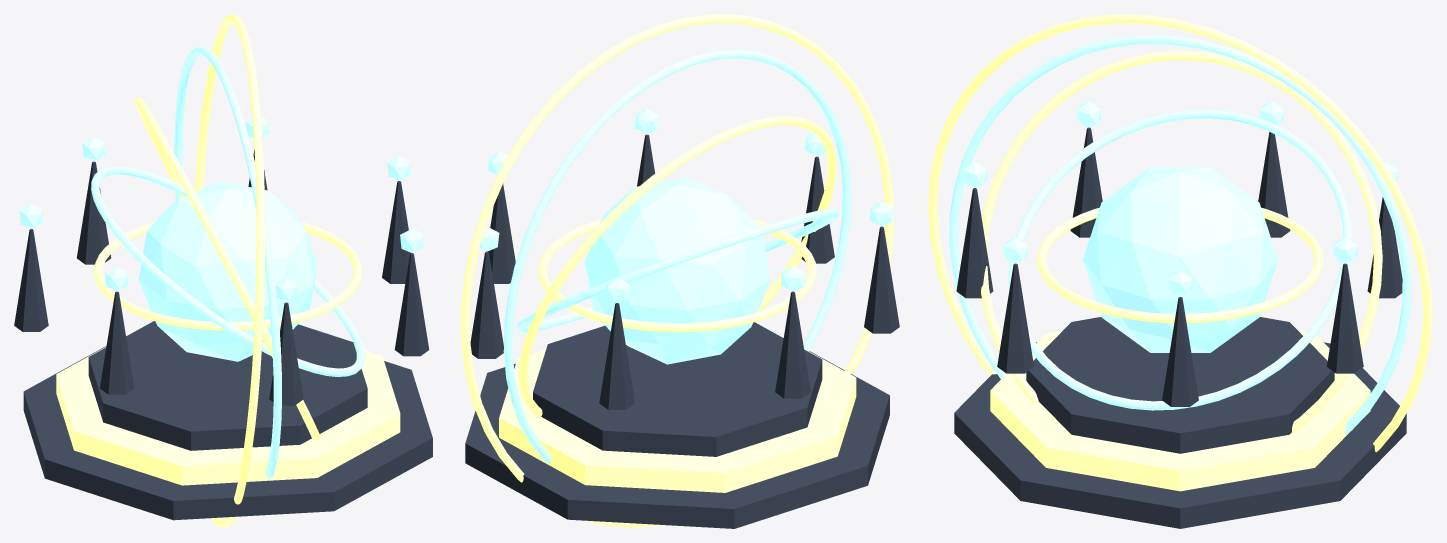
The model's file is gpu-blender-v56.glb.
The picture shows the model from 3 angles, left to right: view 1: azimuth 30°, elevation 25°; view 2: azimuth 150°, elevation 25°; view 3: azimuth 270°, elevation 25°; orthographic projection. The views are drawn at different scales.
Visible parts, largest first — view 1: Cylinder.002, Cylinder, SovereignCore_agent-egress-sentinel, Cylinder.001, Torus.004, Torus.003, Torus.001, Torus, Torus.002, Cone.006, Cone.004, Cone.003 (+3 smaller); view 2: Cylinder.002, SovereignCore_agent-egress-sentinel, Cylinder, Cylinder.001, Torus.004, Torus.003, Torus.002, Torus.001, Torus, Cone.004, Cone.003, Cone.002 (+4 smaller); view 3: SovereignCore_agent-egress-sentinel, Cylinder.002, Cylinder, Cylinder.001, Torus.004, Torus.003, Torus.002, Torus.001, Torus, Cone.001, Cone.006, Cone (+4 smaller).
Part boxes in pixels (x1,y1,x2,y2): Cylinder.002: (88, 321, 367, 450); Cylinder: (23, 346, 432, 520); SovereignCore_agent-egress-sentinel: (139, 181, 317, 361); Cylinder.001: (56, 328, 400, 485); Torus.004: (195, 14, 265, 528); Torus.003: (174, 46, 281, 480); Torus.001: (91, 166, 365, 376); Torus: (94, 222, 362, 330); Torus.002: (135, 97, 320, 440); Cone.006: (394, 253, 429, 356); Cone.004: (100, 291, 134, 394); Cone.003: (14, 229, 48, 331); Cylinder.002: (533, 322, 822, 456); SovereignCore_agent-egress-sentinel: (585, 177, 770, 364); Cylinder: (465, 351, 889, 528); Cylinder.001: (499, 330, 856, 492); Torus.004: (461, 14, 894, 527); Torus.003: (503, 49, 851, 463); Torus.002: (518, 116, 836, 417); Torus.001: (516, 208, 838, 332); Torus: (538, 219, 816, 332); Cone.004: (864, 226, 899, 333); Cone.003: (775, 291, 810, 398); Cone.002: (599, 303, 634, 409); SovereignCore_agent-egress-sentinel: (1083, 167, 1277, 352); Cylinder.002: (1026, 317, 1334, 453); Cylinder: (954, 342, 1406, 528); Cylinder.001: (990, 330, 1370, 491); Torus.004: (928, 14, 1432, 452); Torus.003: (949, 35, 1411, 434); Torus.002: (981, 50, 1382, 433); Torus.001: (1008, 109, 1352, 410); Torus: (1037, 207, 1323, 322); Cone.001: (1327, 263, 1363, 373); Cone.006: (997, 263, 1033, 373); Cone: (1162, 297, 1198, 406).
Size of the model in its own units: 4.41 by 5.33 by 4.9.
